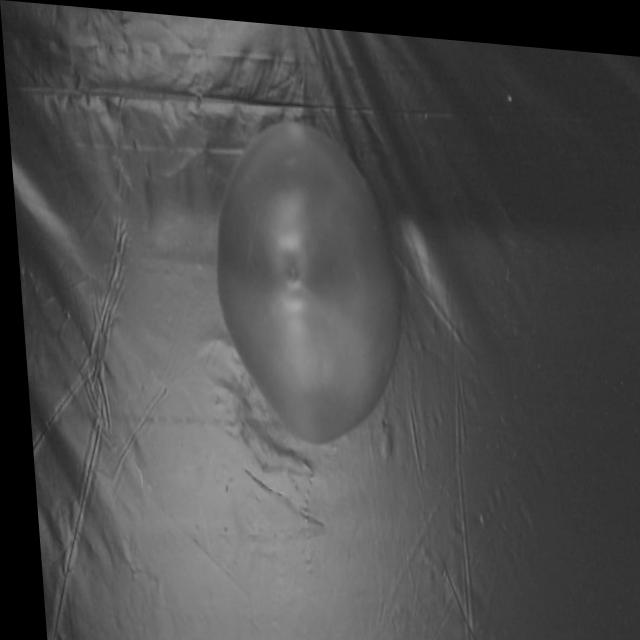kirmizi: (197, 114, 423, 447)
